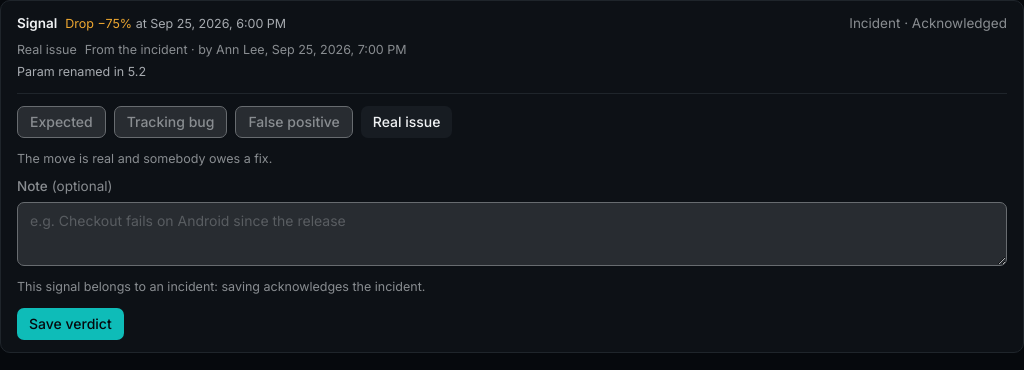
Test: SignalVerdictCard (#254) › names the incident and says a verdict updates it; its verdict is not cleared here
This screenshot has width=1024, height=370.
Check: the text "From the incident · by Ann Lee, Sep 25, 2026, 7:00 PM" is shown, box top-left (85, 41), bottom-right (406, 59)
Click the button "False positive". click: {"x": 294, "y": 122}
box: top-left (235, 106), bottom-right (353, 138)
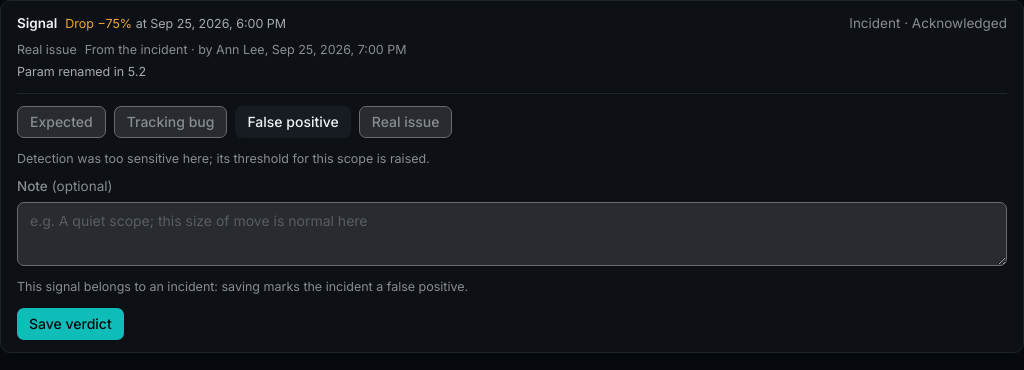
Check: the text "saving marks the incident a false positive" is shown, box top-left (17, 278), bottom-right (468, 294)
